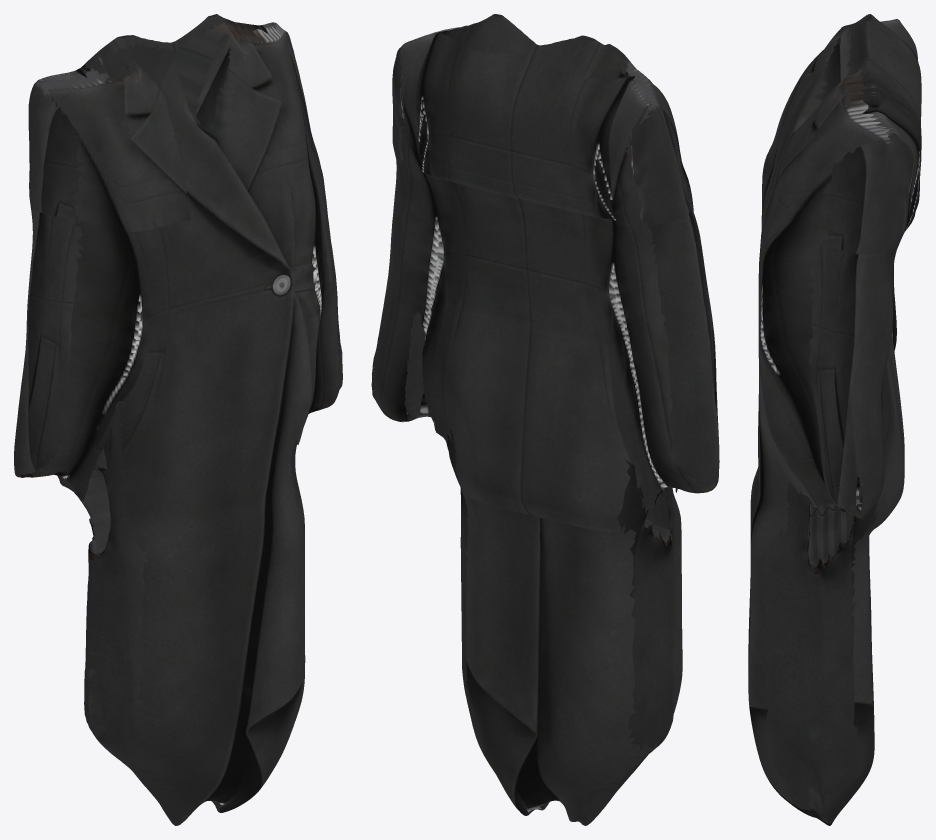
The model's file is NF003-fit-v5.glb.
3 views of the same model, side by side, from view 1: azimuth 30°, elevation 25°; view 2: azimuth 150°, elevation 25°; view 3: azimuth 270°, elevation 25° (orthographic). The views are drawn at different scales.
Visible parts, largest first — view 1: NF003_worn_photo_fitted; view 2: NF003_worn_photo_fitted; view 3: NF003_worn_photo_fitted.
Boxes of the visible parts, x1,y1,x2,y2 form: NF003_worn_photo_fitted: (14,14,342,825); NF003_worn_photo_fitted: (371,14,719,825); NF003_worn_photo_fitted: (748,14,921,825).
Bounding box in the file's own units: 0.5078 × 1.16 × 0.2358.
Materials: 3 (3 with a texture image).
